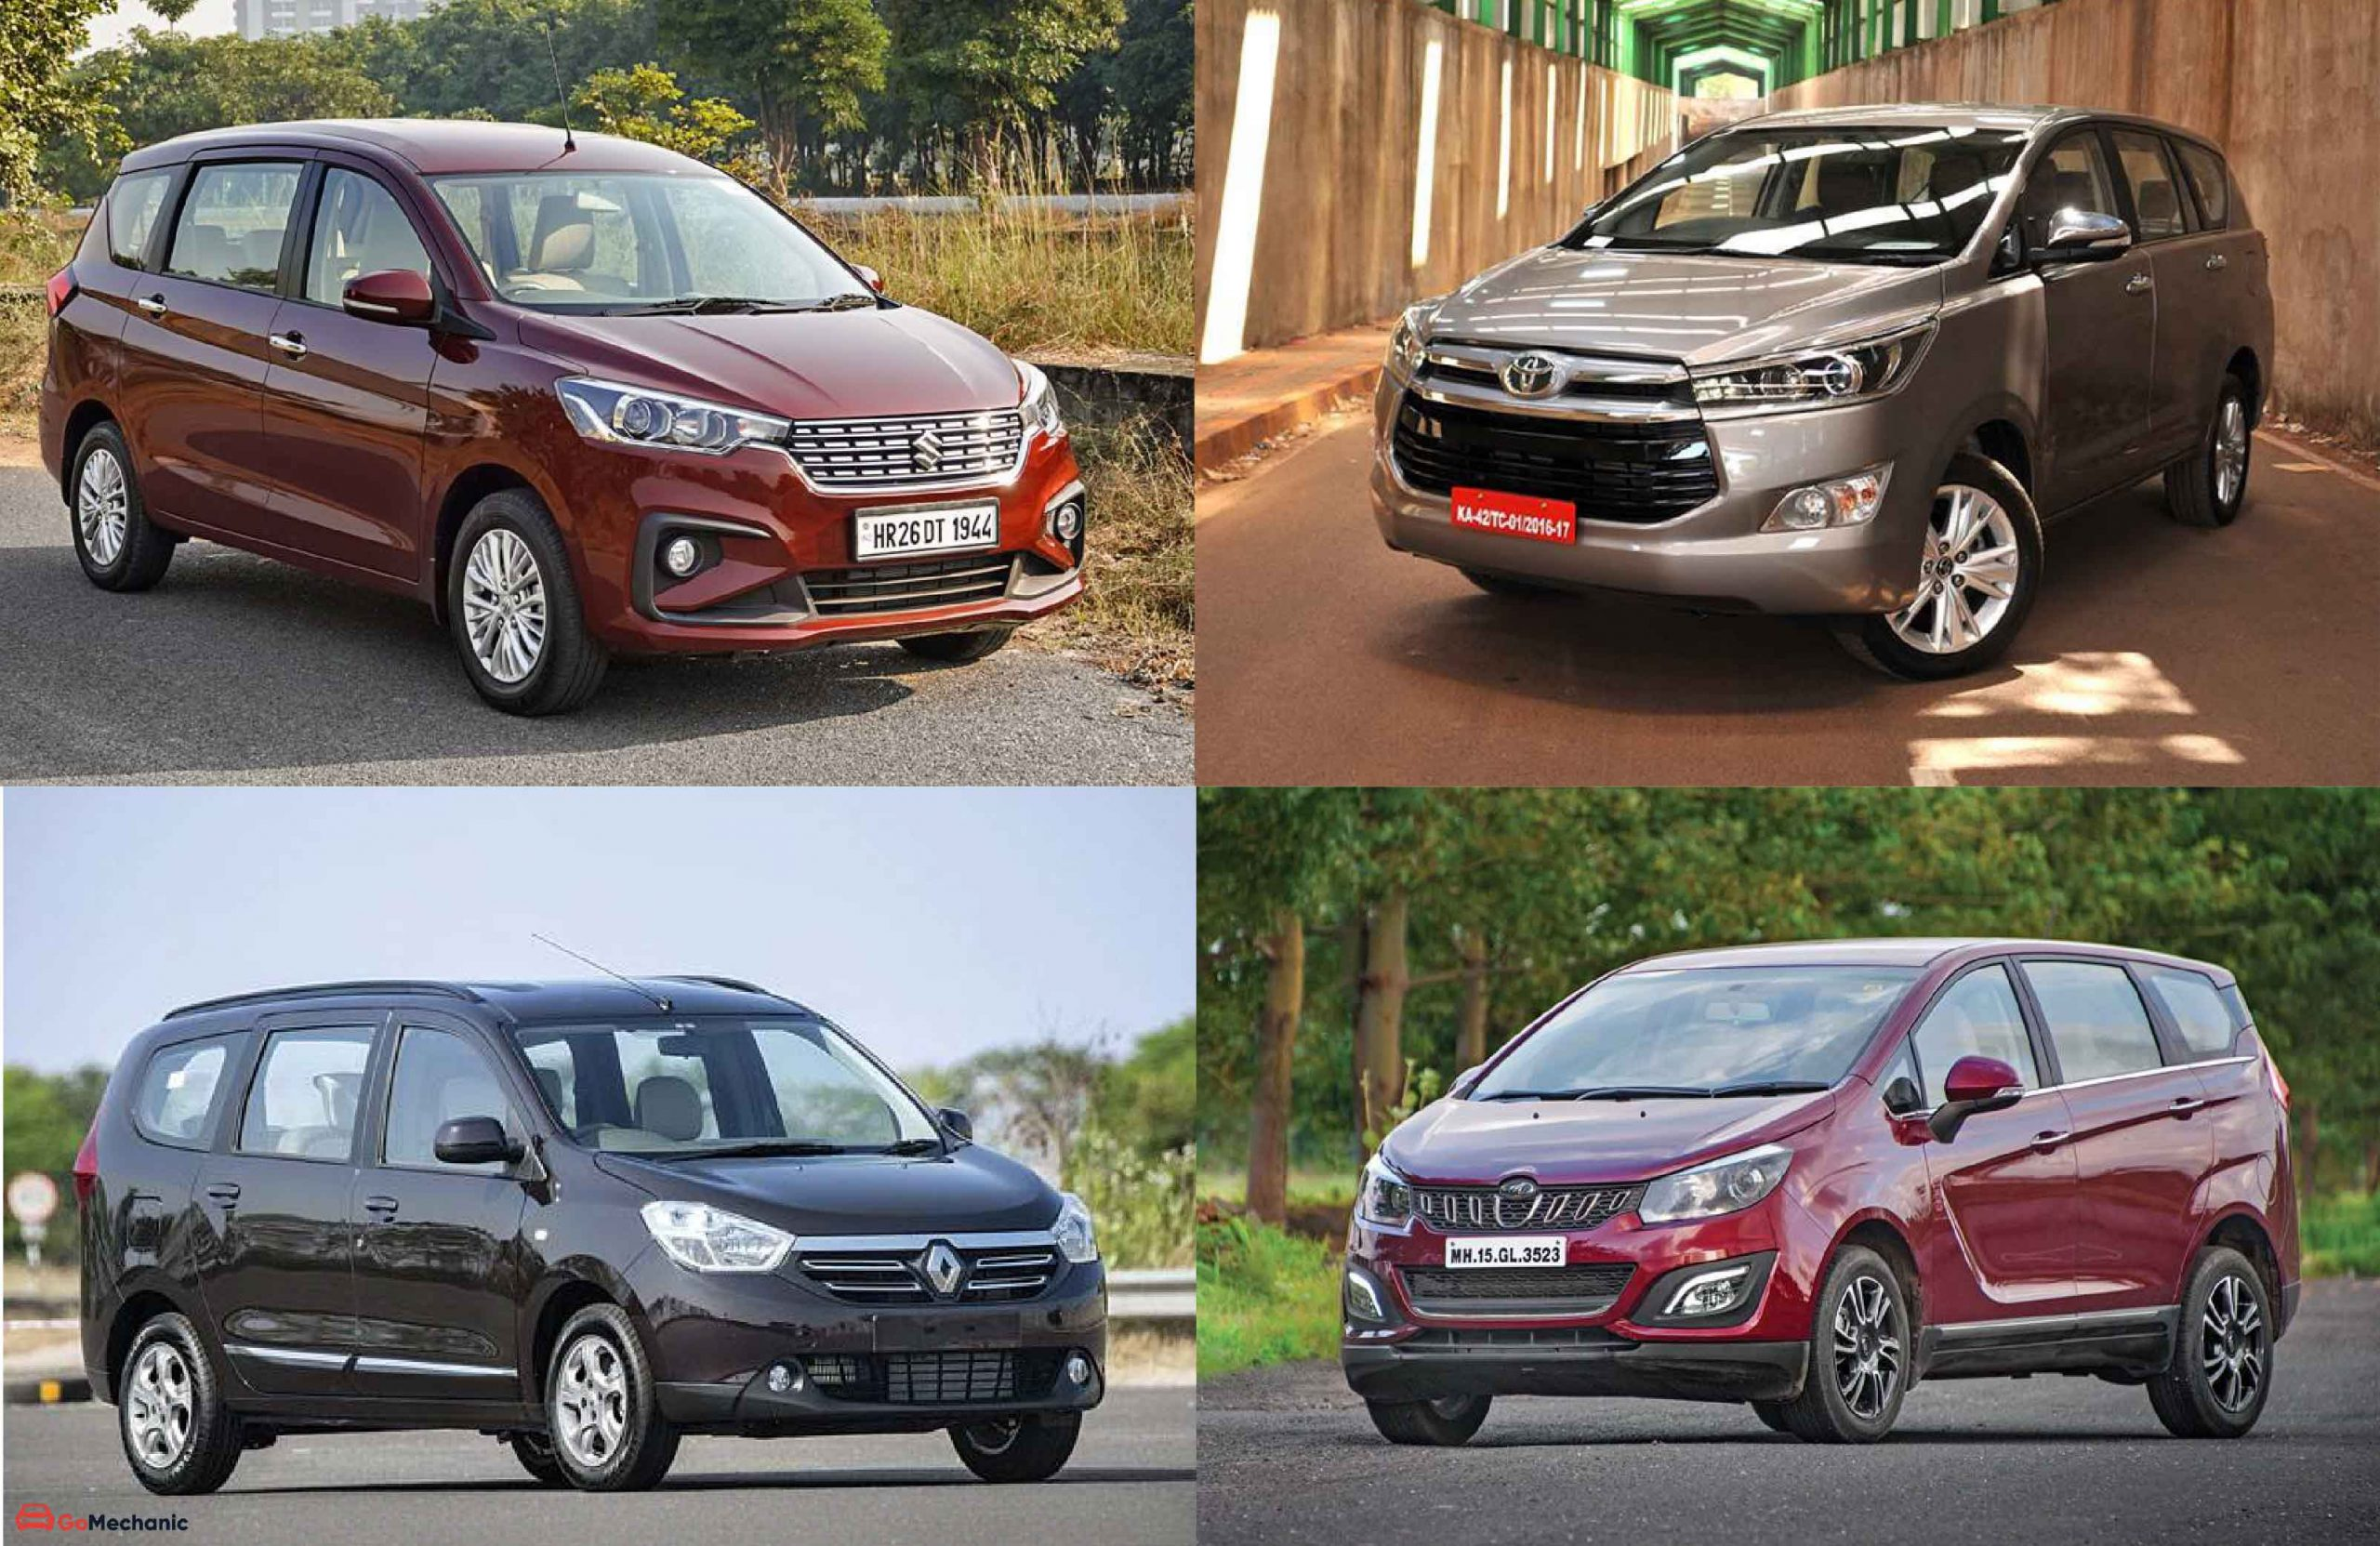car: (38, 118, 1086, 720), (69, 973, 1107, 1496), (1367, 101, 2278, 687), (1337, 939, 2304, 1444)
